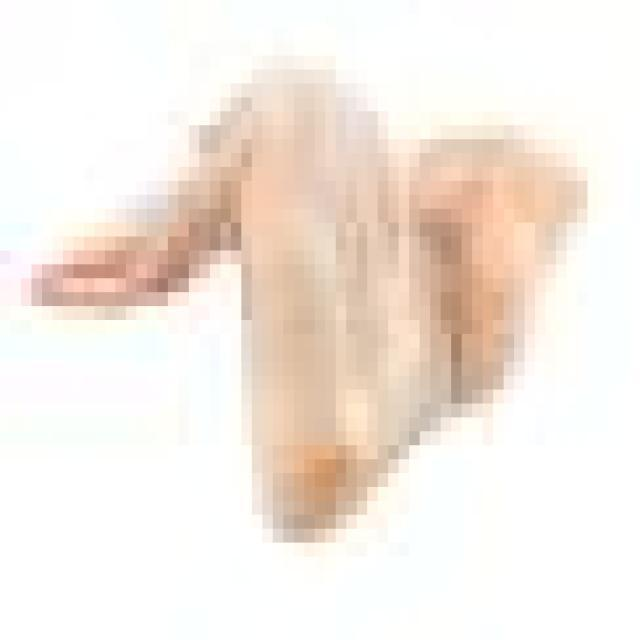wing: (40, 79, 579, 551)
